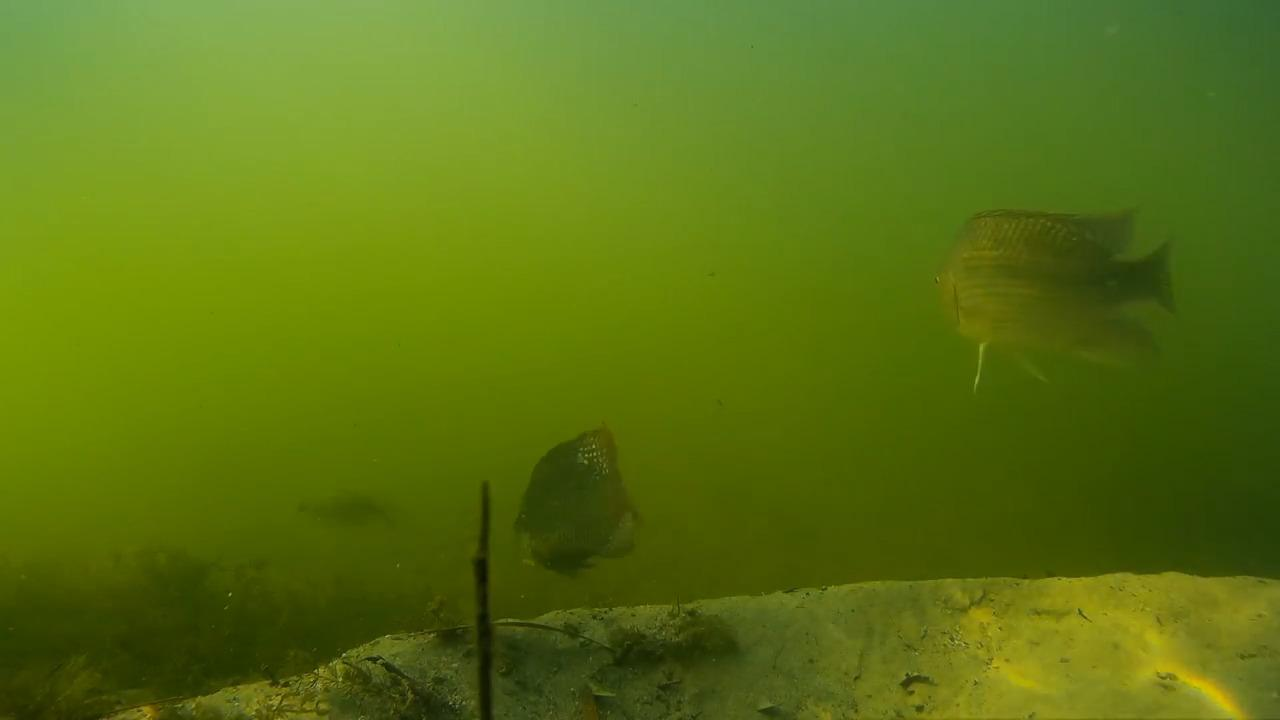Tilapia: (925, 194, 1190, 396), (493, 424, 666, 580), (281, 466, 416, 552)
